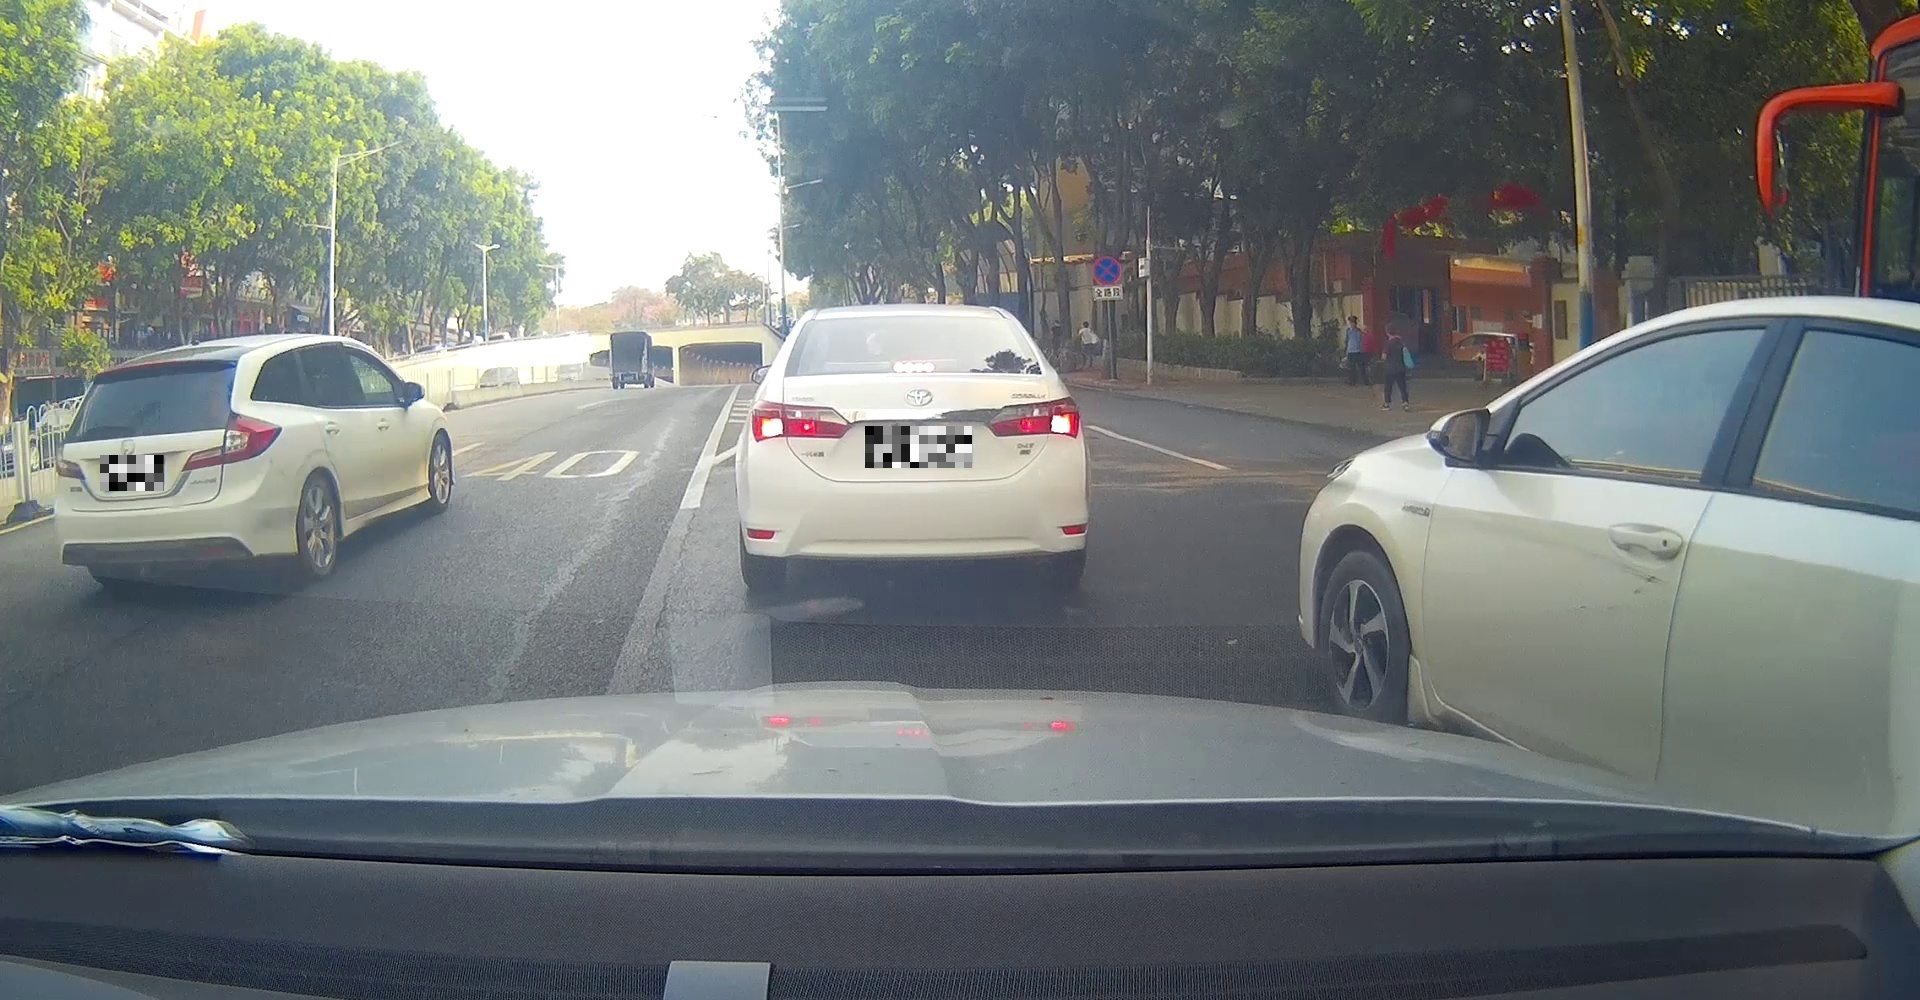L_light: (750, 398, 852, 443), (55, 442, 86, 481)
R_light: (179, 410, 282, 471), (985, 395, 1082, 438)
T_light: (97, 359, 182, 374), (891, 360, 937, 373)
day-brake: (734, 305, 1093, 589)
day-no: (51, 338, 292, 586)
plate_1: (100, 456, 164, 491)
plate_2: (865, 426, 971, 468)
